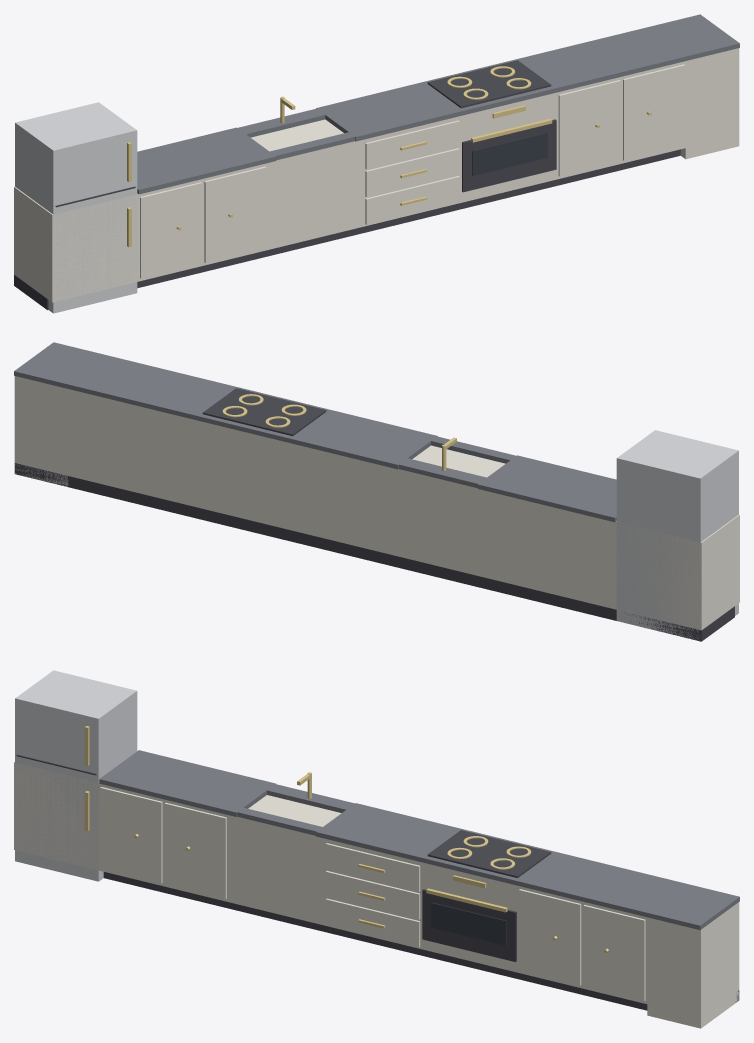
Rendered from bb_set_kitchenrun.fbx.
3 renders of one model, top to bottom at view 1: azimuth 30°, elevation 25°; view 2: azimuth 150°, elevation 25°; view 3: azimuth 330°, elevation 25°, orthographic.
Visible parts, largest first — view 1: bb_set_kitchenrun; view 2: bb_set_kitchenrun; view 3: bb_set_kitchenrun.
Part boxes in pixels (x1,y1,x2,y2): bb_set_kitchenrun: (14,14,739,313); bb_set_kitchenrun: (14,342,739,641); bb_set_kitchenrun: (14,670,739,1028).
Bounding box in the file's own units: 6.4 × 1.45 × 0.695.
